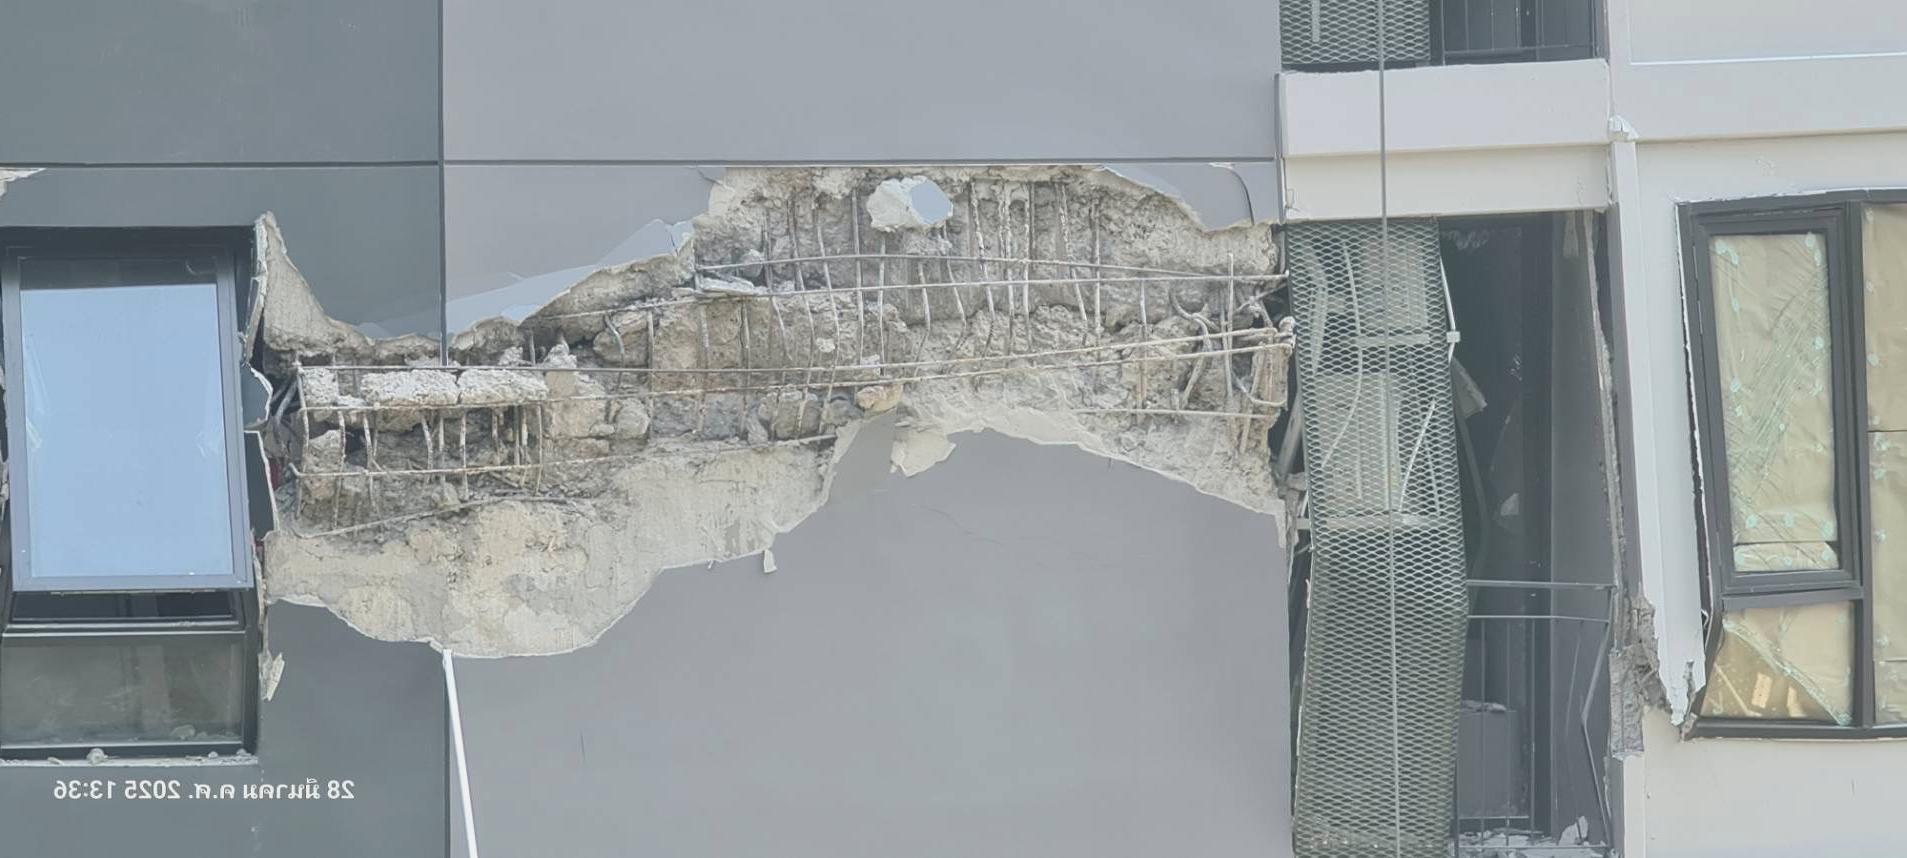High: (216, 151, 1515, 707)
